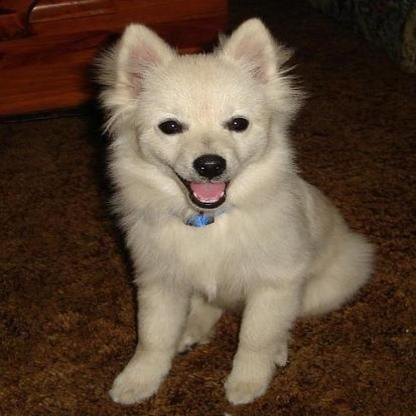Pomeranian: (90, 17, 376, 404)
